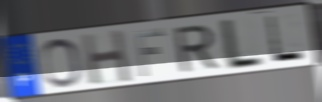F: (131, 27, 167, 79)
H: (79, 28, 134, 87)
L: (220, 16, 265, 72), (264, 13, 308, 64)
O: (39, 36, 85, 89)
R: (171, 23, 220, 75)
